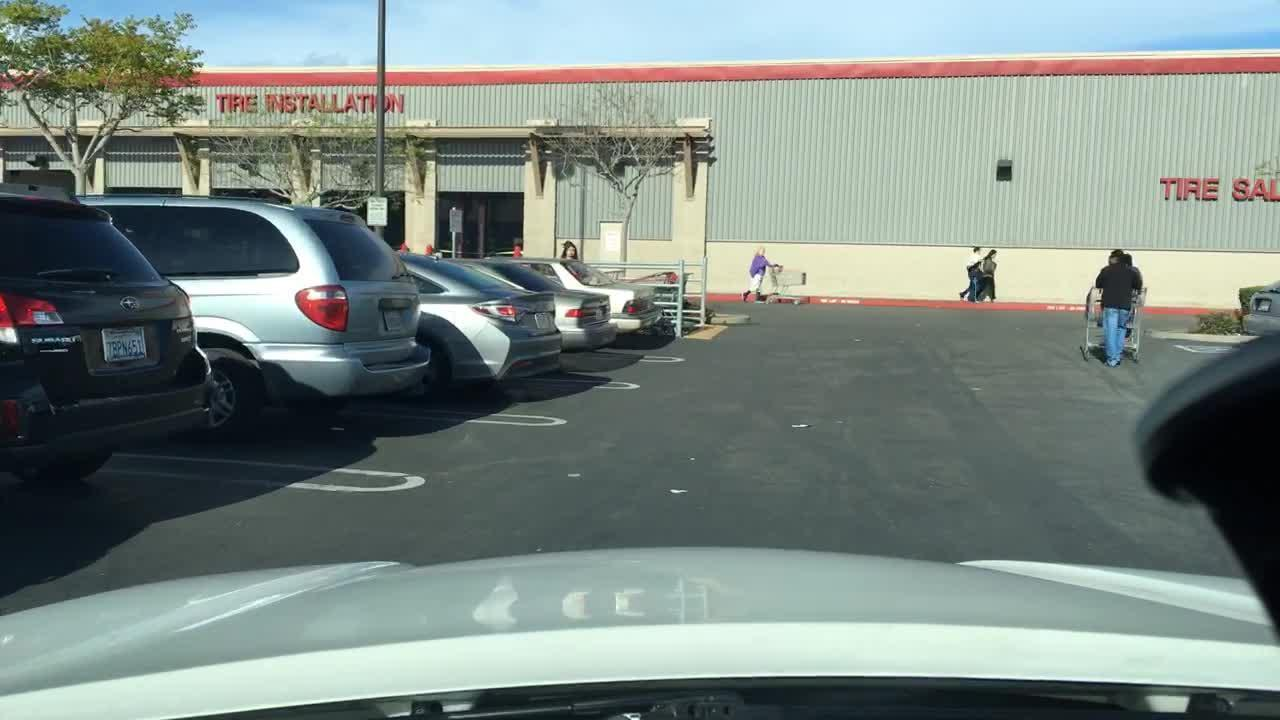acura: (117, 292, 143, 316)
